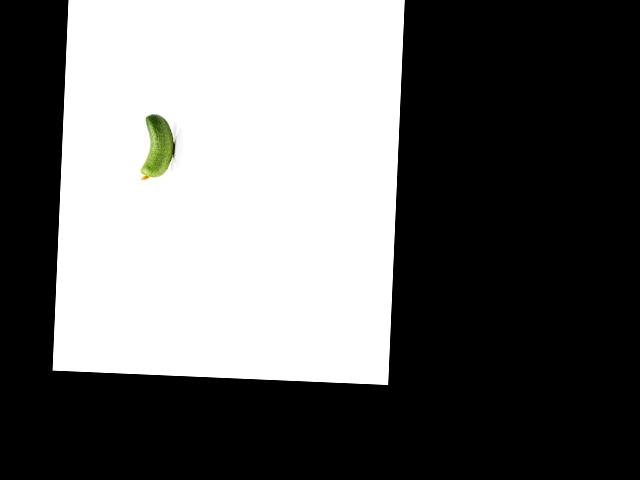cucumber: (140, 113, 175, 181)
